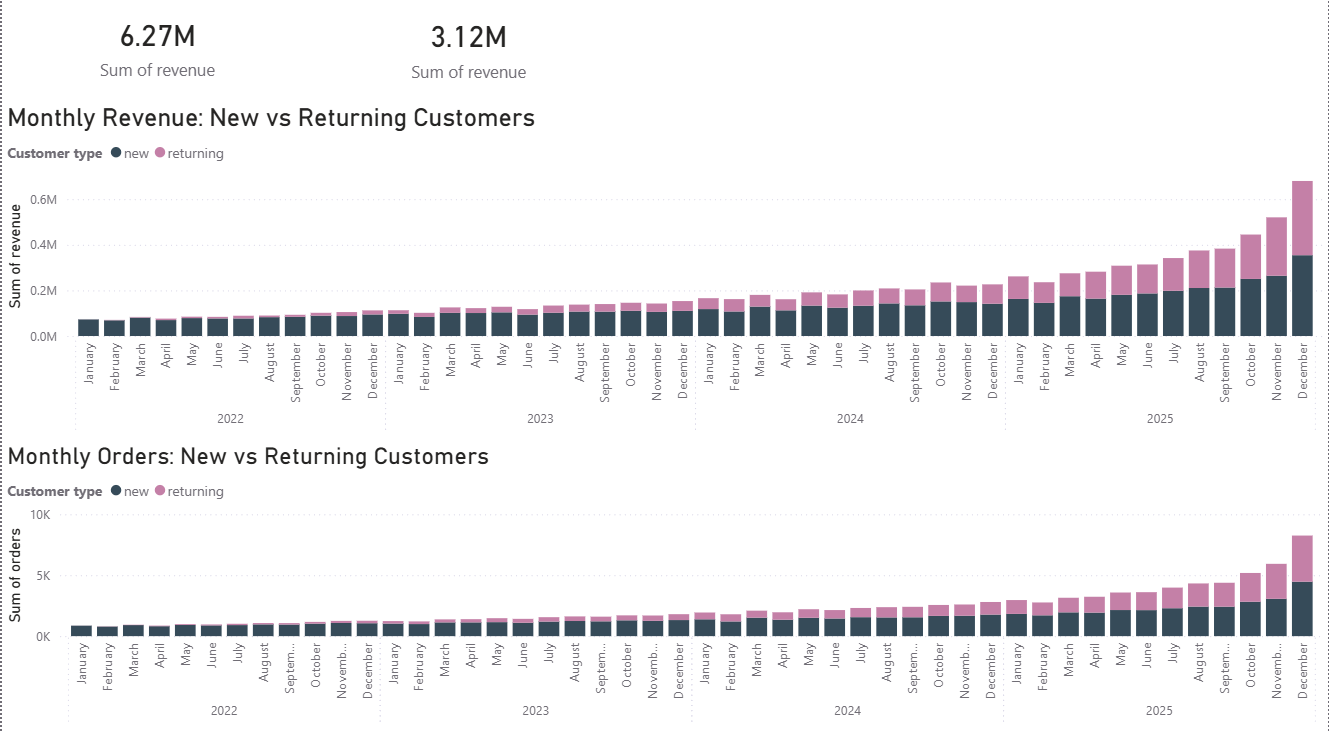

Layout of this report page (visuals, bound fields, positions):
{"tool":"powerbi","page":{"name":"Customer Behavior","canvas":[1280,720],"ordinal":1},"visuals":[{"type":"columnChart","title":"Monthly Revenue: New vs Returning Customers","fields":{"Y":["Sum(customer_behavior_monthly.revenue)"],"Series":["customer_behavior_monthly.customer_type"],"Category":["customer_behavior_monthly.month.Variation.Date Hierarchy.Year","customer_behavior_monthly.month.Variation.Date Hierarchy.Month"]},"box":[0,112.5,1280.3,326.6],"z":0},{"type":"columnChart","title":"Monthly Orders: New vs Returning Customers","fields":{"Y":["Sum(customer_behavior_monthly.orders)"],"Series":["customer_behavior_monthly.customer_type"],"Category":["customer_behavior_monthly.month.Variation.Date Hierarchy.Year","customer_behavior_monthly.month.Variation.Date Hierarchy.Month"]},"box":[0,439.1,1280.3,281.3],"z":1000},{"type":"card","fields":{"Values":["Sum(customer_behavior_monthly.revenue)"]},"box":[0,0,300.5,111.1],"z":2000},{"type":"card","fields":{"Values":["Sum(customer_behavior_monthly.revenue)"]},"box":[300.5,1.4,300.5,111.1],"z":3000}]}

Visuals, with their boxes in screenshot pixels (x1, y1, x2, y2), scaled from the page's 1280x720 canvas onto the 1329x732 screenshot:
"Monthly Revenue: New vs Returning Customers" columnChart: <region>0, 114, 1328, 446</region>
"Monthly Orders: New vs Returning Customers" columnChart: <region>0, 446, 1328, 731</region>
card - Sum(customer_behavior_monthly.revenue): <region>0, 0, 312, 113</region>
card - Sum(customer_behavior_monthly.revenue): <region>312, 1, 624, 114</region>
